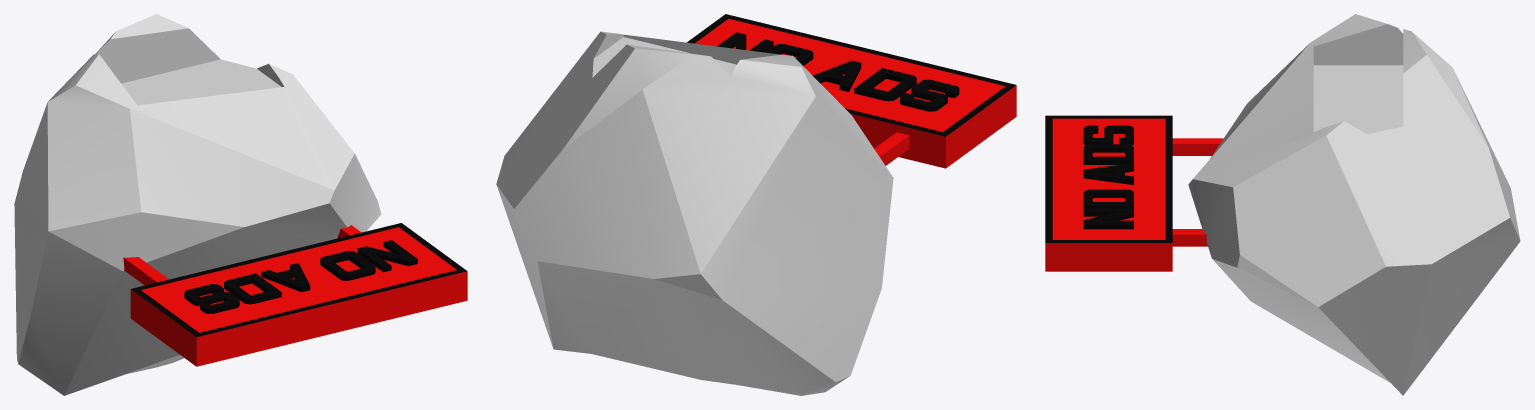
File: No ads.fbx
The picture shows the model from 3 angles, left to right: view 1: azimuth 30°, elevation 25°; view 2: azimuth 150°, elevation 25°; view 3: azimuth 270°, elevation 25°; orthographic projection. The views are drawn at different scales.
Parts seen in each view (by area): view 1: Asteroid, No_ads; view 2: Asteroid, No_ads; view 3: Asteroid, No_ads.
Boxes of the visible parts, <box> form: Asteroid: <box>14,14,381,395</box>; No_ads: <box>123,223,467,366</box>; Asteroid: <box>496,31,893,395</box>; No_ads: <box>687,14,1016,168</box>; Asteroid: <box>1188,14,1520,395</box>; No_ads: <box>1045,115,1223,271</box>.
Bounding box in the file's own units: 1.33 × 1.24 × 1.71.
